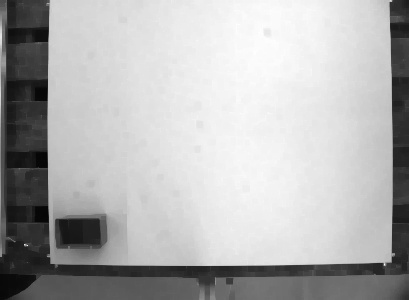kltxs: (52, 211, 114, 251)
